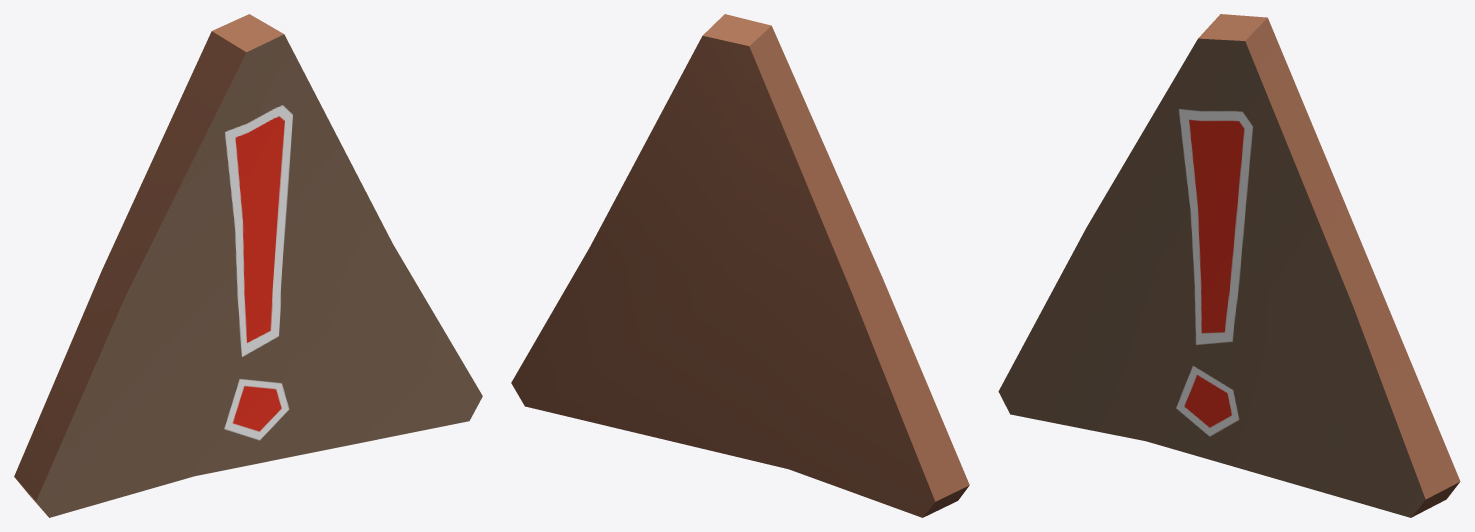
Rendered from ice_pole_wood_signpost_1.fbx.
3 renders of one model, left to right at view 1: azimuth 30°, elevation 25°; view 2: azimuth 150°, elevation 25°; view 3: azimuth 330°, elevation 25°, orthographic.
Visible parts, largest first — view 1: pole_wood_signpost_1; view 2: pole_wood_signpost_1; view 3: pole_wood_signpost_1.
Boxes of the visible parts, x1,y1,x2,y2 form: pole_wood_signpost_1: (14,14,482,517); pole_wood_signpost_1: (511,14,969,517); pole_wood_signpost_1: (998,14,1460,517).
Bounding box in the file's own units: 1.18 × 1.1 × 0.1894.
